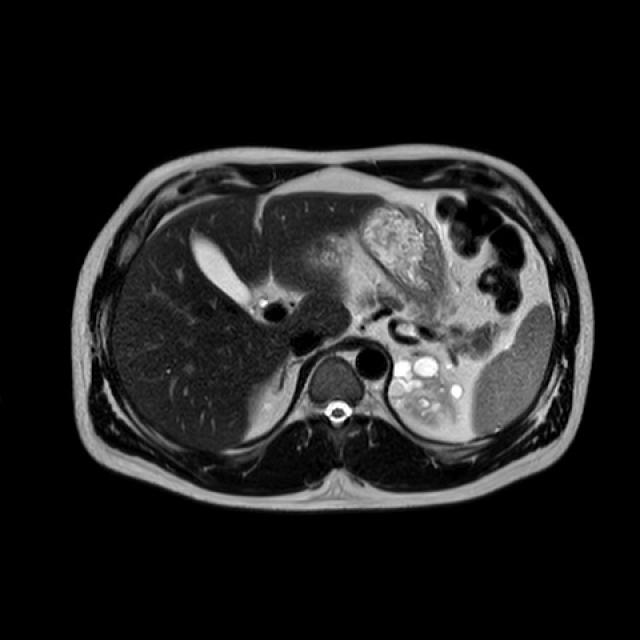sag: (250, 380, 277, 421)
sol: (388, 354, 466, 428)
